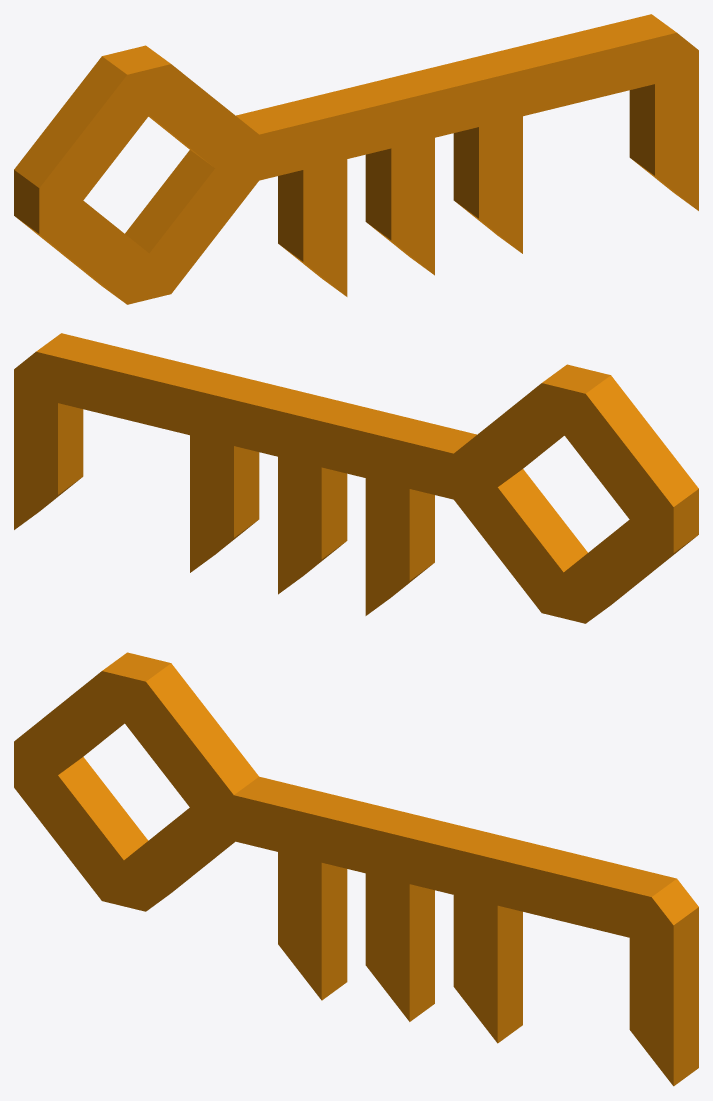
Rendered from Items.fbx_Key_4.fbx.
3 views of the same model, one above another, from view 1: azimuth 30°, elevation 25°; view 2: azimuth 150°, elevation 25°; view 3: azimuth 330°, elevation 25° (orthographic).
Parts seen in each view (by area): view 1: Key 4; view 2: Key 4; view 3: Key 4.
Part boxes in pixels (box(x1,y1,x2,y2)): Key 4: box(14, 14, 698, 304); Key 4: box(14, 333, 698, 623); Key 4: box(14, 652, 698, 1086).
Size of the model in its own units: 30 by 12 by 2.
